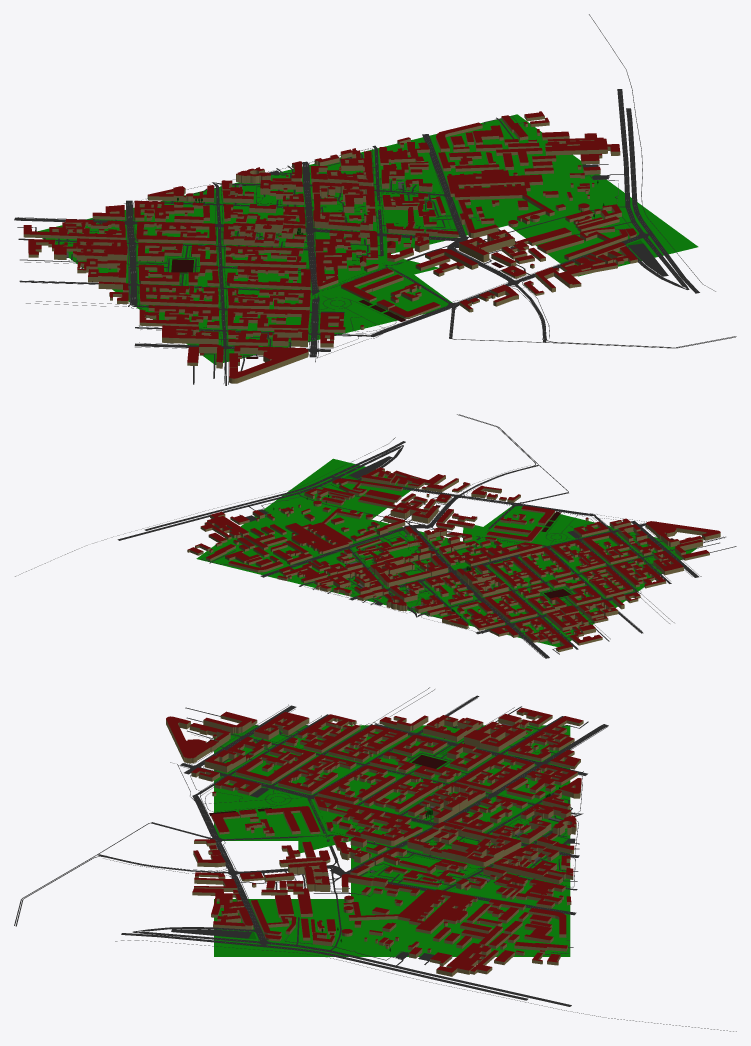
The picture shows the model from 3 angles, top to bottom: view 1: azimuth 30°, elevation 25°; view 2: azimuth 150°, elevation 25°; view 3: azimuth 270°, elevation 25°; orthographic projection. The views are drawn at different scales.
Visible parts, largest first — view 1: SurfaceArea2930, SurfaceArea2937, SurfaceArea2936, SurfaceArea2934, Building2466, SurfaceArea2928, Road ????????? ??????????, SurfaceArea2931, SurfaceArea2927, SurfaceArea2938, Road ???????????? ?????, SurfaceArea2932 (+9 smaller); view 2: SurfaceArea2930, SurfaceArea2937, SurfaceArea2936, SurfaceArea2934, Building2466, Road ????????? ??????????, SurfaceArea2928, SurfaceArea2927, SurfaceArea2938, SurfaceArea2931, SurfaceArea2932, Road ???????????? ????? (+7 smaller); view 3: SurfaceArea2930, SurfaceArea2936, SurfaceArea2937, SurfaceArea2934, Building2466, Road ????????? ??????????, SurfaceArea2928, SurfaceArea2938, SurfaceArea2927, SurfaceArea2931, SurfaceArea2932, Road ???????????? ????? (+7 smaller).
Part boxes in pixels (x1,y1,x2,y2): SurfaceArea2930: [272, 255, 452, 334]; SurfaceArea2937: [443, 148, 624, 224]; SurfaceArea2936: [510, 197, 698, 276]; SurfaceArea2934: [320, 175, 507, 254]; Building2466: [447, 169, 554, 224]; SurfaceArea2928: [76, 236, 262, 312]; Road ????????? ??????????: [617, 89, 699, 293]; SurfaceArea2931: [200, 205, 386, 282]; SurfaceArea2927: [153, 287, 335, 364]; SurfaceArea2938: [397, 114, 547, 172]; Road ???????????? ?????: [322, 134, 546, 342]; SurfaceArea2932: [160, 175, 313, 232]; SurfaceArea2930: [463, 505, 598, 563]; SurfaceArea2937: [240, 498, 370, 556]; SurfaceArea2936: [281, 458, 413, 517]; SurfaceArea2934: [320, 519, 461, 576]; Building2466: [285, 508, 363, 553]; Road ????????? ??????????: [117, 441, 405, 540]; SurfaceArea2928: [505, 564, 644, 624]; SurfaceArea2927: [555, 525, 697, 585]; SurfaceArea2938: [196, 537, 316, 581]; SurfaceArea2931: [414, 542, 553, 601]; SurfaceArea2932: [381, 581, 498, 625]; Road ???????????? ?????: [260, 465, 544, 586]; SurfaceArea2930: [214, 783, 350, 852]; SurfaceArea2936: [214, 899, 350, 956]; SurfaceArea2937: [351, 899, 488, 956]; SurfaceArea2934: [351, 841, 488, 898]; Building2466: [343, 889, 477, 934]; Road ????????? ??????????: [121, 931, 571, 1006]; SurfaceArea2928: [351, 725, 488, 782]; SurfaceArea2938: [488, 899, 570, 956]; SurfaceArea2927: [214, 725, 350, 782]; SurfaceArea2931: [351, 783, 488, 840]; SurfaceArea2932: [488, 783, 570, 840]; Road ???????????? ?????: [98, 799, 577, 915].
Bounding box in the file's own units: 1786 × 20 × 1582.
